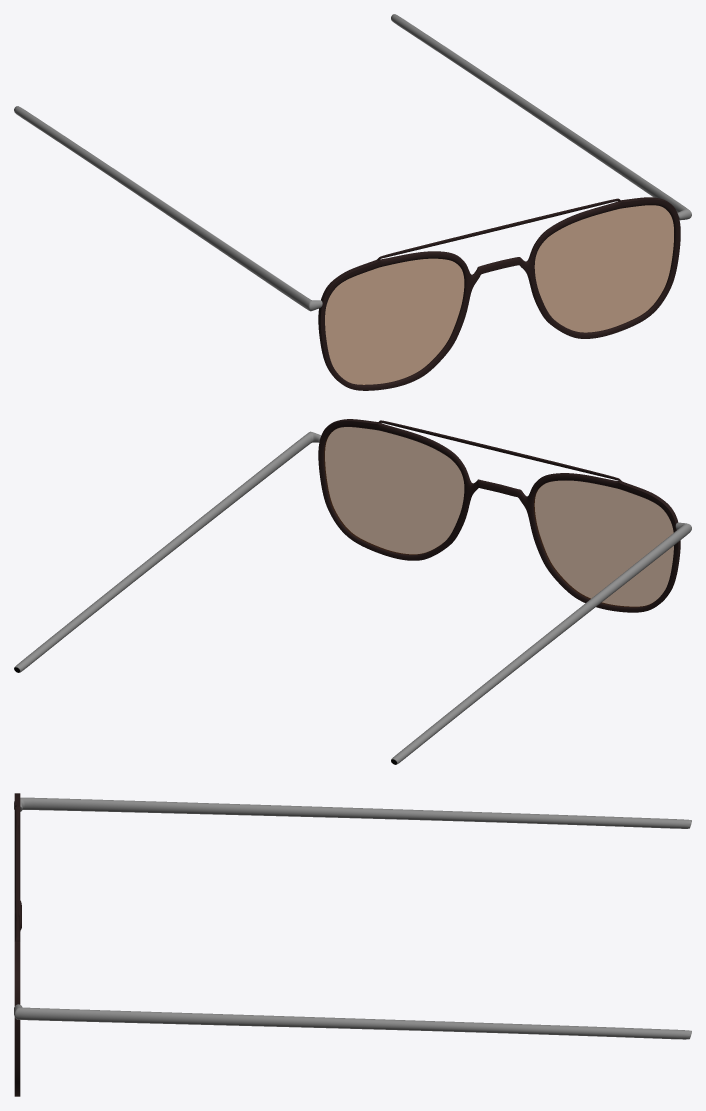
File: glasses-14.glb
3 renders of one model, top to bottom at view 1: azimuth 30°, elevation 25°; view 2: azimuth 150°, elevation 25°; view 3: azimuth 270°, elevation 25°, orthographic. The views are drawn at different scales.
Visible parts, largest first — view 1: Plane.001, Plane, Cylinder.001, Cylinder; view 2: Plane.001, Plane, Cylinder.001, Cylinder; view 3: Cylinder, Cylinder.001, Plane.
Boxes of the visible parts, x1=… form: Plane.001: x1=325, y1=205, x2=673, y2=384; Plane: x1=318, y1=197, x2=680, y2=390; Cylinder.001: x1=14, y1=106, x2=322, y2=311; Cylinder: x1=391, y1=14, x2=691, y2=220; Plane.001: x1=324, y1=427, x2=673, y2=607; Plane: x1=318, y1=419, x2=680, y2=612; Cylinder.001: x1=391, y1=522, x2=691, y2=764; Cylinder: x1=14, y1=431, x2=321, y2=672; Cylinder: x1=14, y1=1004, x2=691, y2=1039; Cylinder.001: x1=14, y1=797, x2=691, y2=828; Plane: x1=14, y1=793, x2=21, y2=1096.
Size of the model in its own units: 16.48 by 5.49 by 21.99.
